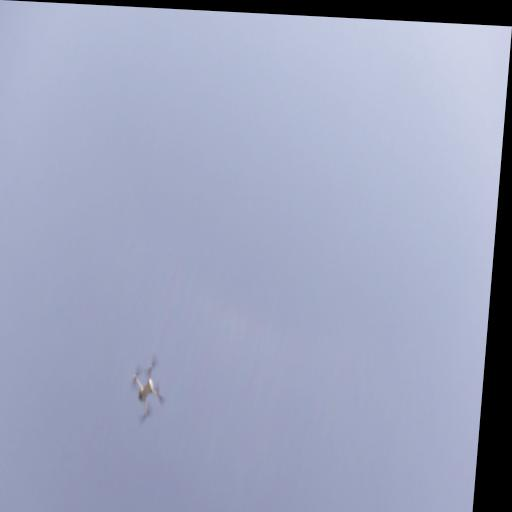drones: (127, 354, 169, 430)
